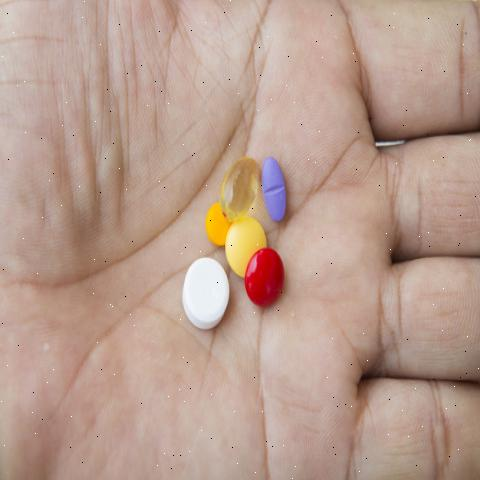Pill: (170, 243, 242, 342)
